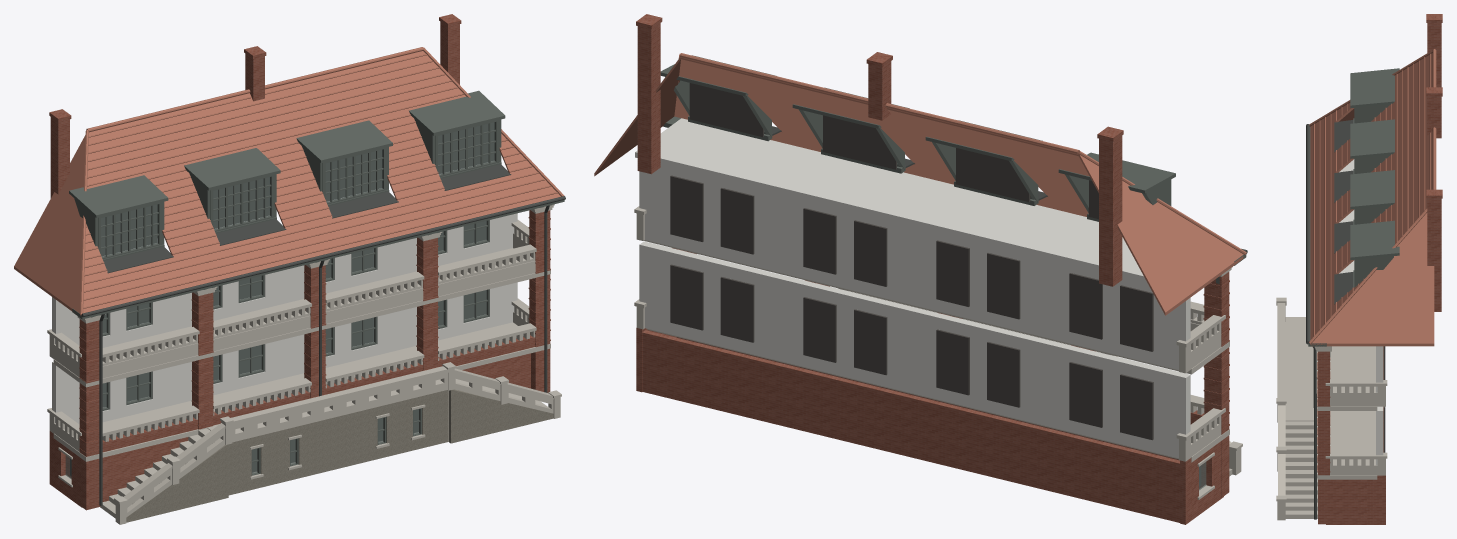
Rendered from changning-xinhuacun-11-garden-front-web.glb.
3 views of the same model, side by side, from view 1: azimuth 30°, elevation 25°; view 2: azimuth 150°, elevation 25°; view 3: azimuth 270°, elevation 25° (orthographic). The views are drawn at different scales.
Parts seen in each view (by area): view 1: 新华村11号楼四跨院廊与坡屋面; view 2: 新华村11号楼四跨院廊与坡屋面; view 3: 新华村11号楼四跨院廊与坡屋面.
Boxes of the visible parts, box(x1,y1,x2,y2) form: 新华村11号楼四跨院廊与坡屋面: box(14, 14, 565, 524); 新华村11号楼四跨院廊与坡屋面: box(594, 14, 1247, 524); 新华村11号楼四跨院廊与坡屋面: box(1276, 14, 1442, 524).
Bounding box in the file's own units: 21.57 × 15.22 × 6.94.
9 materials, 2 textured.
